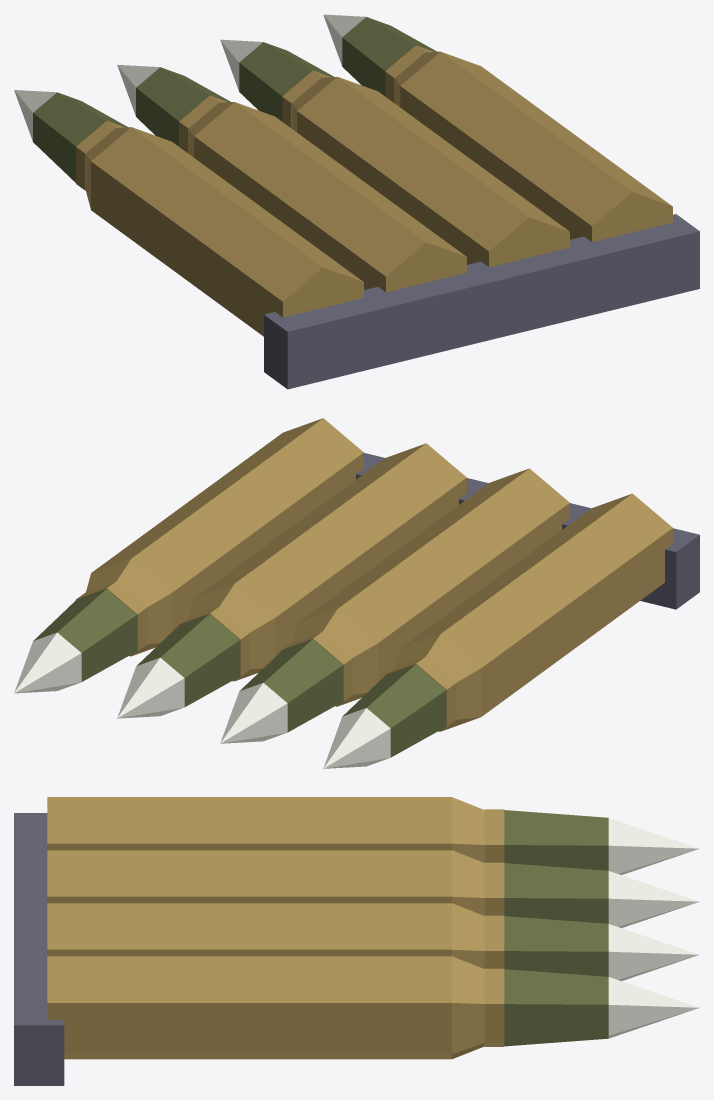
File: ce_ammo_light_he_b.obj
The picture shows the model from 3 angles, top to bottom: view 1: azimuth 30°, elevation 25°; view 2: azimuth 150°, elevation 25°; view 3: azimuth 270°, elevation 25°; orthographic projection. The views are drawn at different scales.
Visible parts, largest first — view 1: ce_ammo_light_he_b_20, ce_ammo_light_he_b_0, ce_ammo_light_he_b_10, ce_ammo_light_he_b_15, ce_ammo_light_he_b_5, ce_ammo_light_he_b_3, ce_ammo_light_he_b_18, ce_ammo_light_he_b_13, ce_ammo_light_he_b_8, ce_ammo_light_he_b_2, ce_ammo_light_he_b_14, ce_ammo_light_he_b_19 (+9 smaller); view 2: ce_ammo_light_he_b_0, ce_ammo_light_he_b_5, ce_ammo_light_he_b_10, ce_ammo_light_he_b_15, ce_ammo_light_he_b_3, ce_ammo_light_he_b_8, ce_ammo_light_he_b_18, ce_ammo_light_he_b_13, ce_ammo_light_he_b_20, ce_ammo_light_he_b_1, ce_ammo_light_he_b_6, ce_ammo_light_he_b_11 (+9 smaller); view 3: ce_ammo_light_he_b_15, ce_ammo_light_he_b_0, ce_ammo_light_he_b_5, ce_ammo_light_he_b_10, ce_ammo_light_he_b_20, ce_ammo_light_he_b_18, ce_ammo_light_he_b_8, ce_ammo_light_he_b_13, ce_ammo_light_he_b_3, ce_ammo_light_he_b_16, ce_ammo_light_he_b_19, ce_ammo_light_he_b_4 (+9 smaller).
Part boxes in pixels (x1,y1,x2,y2): ce_ammo_light_he_b_20: [264, 214, 699, 389]; ce_ammo_light_he_b_0: [91, 127, 363, 336]; ce_ammo_light_he_b_10: [297, 77, 569, 267]; ce_ammo_light_he_b_15: [400, 52, 672, 241]; ce_ammo_light_he_b_5: [194, 102, 466, 292]; ce_ammo_light_he_b_3: [33, 92, 127, 182]; ce_ammo_light_he_b_18: [342, 17, 437, 96]; ce_ammo_light_he_b_13: [239, 42, 333, 121]; ce_ammo_light_he_b_8: [136, 67, 230, 146]; ce_ammo_light_he_b_2: [76, 121, 124, 190]; ce_ammo_light_he_b_14: [220, 39, 262, 91]; ce_ammo_light_he_b_19: [323, 14, 365, 66]; ce_ammo_light_he_b_0: [401, 493, 672, 716]; ce_ammo_light_he_b_5: [298, 468, 569, 681]; ce_ammo_light_he_b_10: [195, 443, 466, 656]; ce_ammo_light_he_b_15: [92, 418, 363, 631]; ce_ammo_light_he_b_3: [342, 664, 446, 757]; ce_ammo_light_he_b_8: [240, 639, 343, 732]; ce_ammo_light_he_b_18: [33, 589, 137, 681]; ce_ammo_light_he_b_13: [137, 614, 240, 706]; ce_ammo_light_he_b_20: [356, 453, 699, 609]; ce_ammo_light_he_b_1: [395, 634, 481, 731]; ce_ammo_light_he_b_6: [292, 609, 378, 706]; ce_ammo_light_he_b_11: [189, 583, 274, 681]; ce_ammo_light_he_b_15: [47, 956, 451, 1059]; ce_ammo_light_he_b_0: [47, 797, 451, 850]; ce_ammo_light_he_b_5: [47, 850, 451, 903]; ce_ammo_light_he_b_10: [47, 903, 451, 956]; ce_ammo_light_he_b_20: [14, 813, 64, 1085]; ce_ammo_light_he_b_18: [504, 969, 608, 1046]; ce_ammo_light_he_b_8: [504, 863, 608, 923]; ce_ammo_light_he_b_13: [504, 916, 608, 976]; ce_ammo_light_he_b_3: [504, 810, 608, 870]; ce_ammo_light_he_b_16: [452, 956, 484, 1058]; ce_ammo_light_he_b_19: [608, 977, 699, 1038]; ce_ammo_light_he_b_4: [608, 818, 699, 874].
Bounding box in the file's own units: 0.6 × 0.136 × 0.82.
